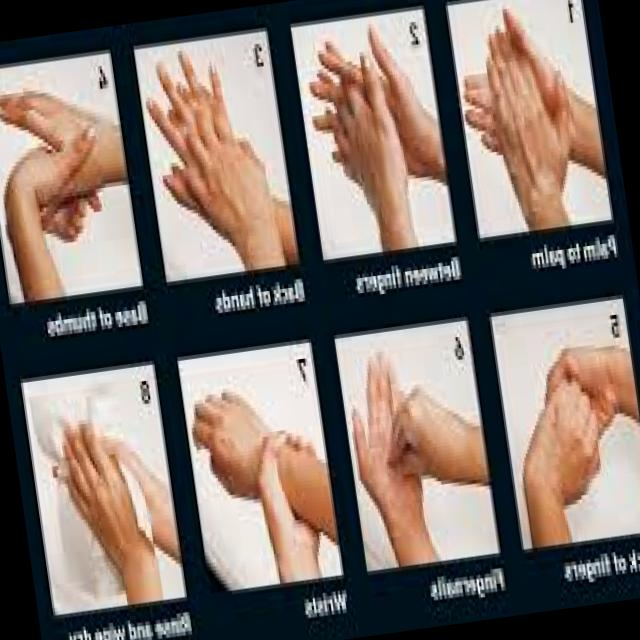Hand: (450, 0, 584, 188), (298, 15, 429, 202), (137, 40, 249, 229), (477, 8, 582, 202), (0, 70, 113, 234), (314, 32, 416, 213), (158, 94, 278, 247), (46, 427, 168, 567), (52, 407, 160, 562), (182, 371, 295, 511), (506, 376, 610, 518), (0, 118, 109, 249), (339, 340, 424, 506), (243, 418, 334, 566), (374, 375, 478, 490), (534, 334, 622, 457)
